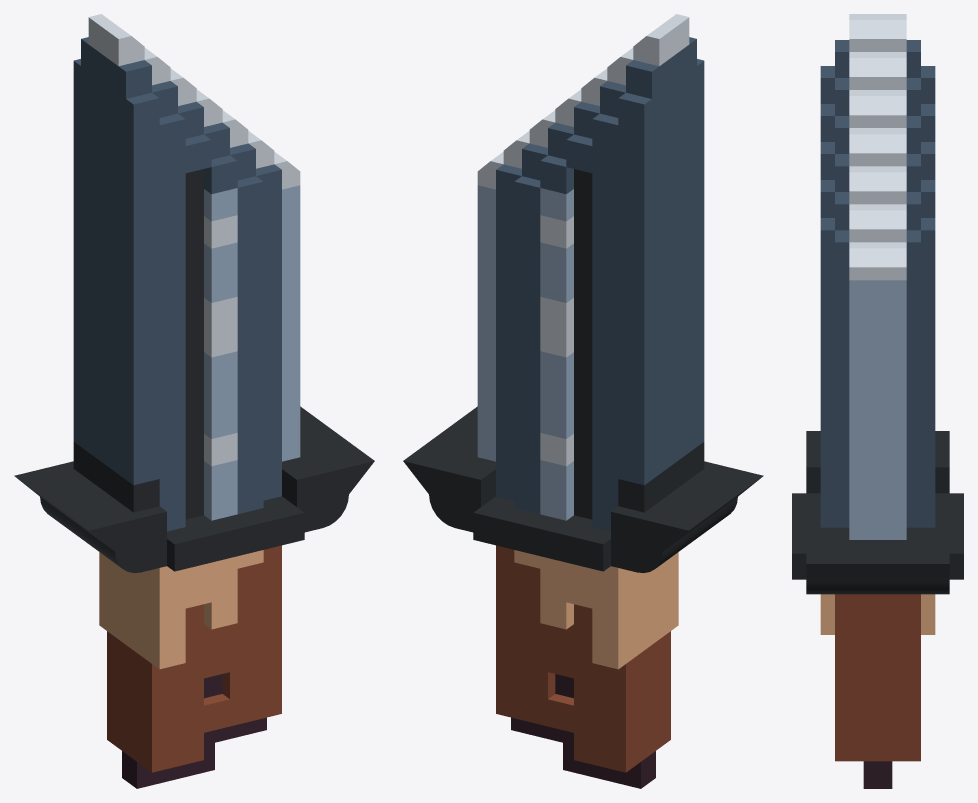
File: SwordChain.fbx
3 views of the same model, side by side, from view 1: azimuth 30°, elevation 25°; view 2: azimuth 150°, elevation 25°; view 3: azimuth 270°, elevation 25° (orthographic). The views are drawn at different scales.
Parts seen in each view (by area): view 1: generated; view 2: generated; view 3: generated.
Boxes of the visible parts, bbox=[...] form: generated: bbox=[14, 14, 374, 788]; generated: bbox=[403, 14, 763, 788]; generated: bbox=[792, 14, 963, 788].
Size of the model in its own units: 110 by 280 by 60.
1 material, 1 textured.
